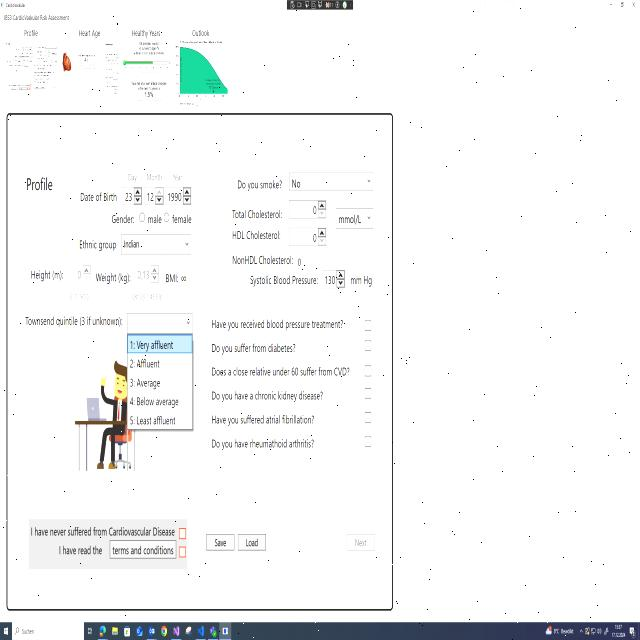button: (109, 538, 177, 560), (236, 527, 268, 556), (344, 530, 376, 554), (205, 530, 235, 554), (627, 0, 640, 15), (604, 0, 616, 15), (616, 0, 627, 14)
checkbox: (362, 408, 373, 428), (362, 317, 374, 334), (362, 383, 372, 402), (363, 336, 372, 355), (363, 432, 372, 450), (178, 544, 187, 562), (364, 364, 372, 378), (178, 526, 186, 540)
dropdownMenu: (125, 308, 194, 433), (288, 163, 374, 194), (120, 228, 192, 260), (334, 204, 376, 236), (554, 626, 584, 636)
icon: (98, 625, 107, 637), (209, 625, 217, 638), (545, 623, 553, 636), (2, 624, 10, 636), (160, 624, 167, 637), (197, 624, 204, 637), (124, 624, 130, 638), (136, 625, 143, 637), (173, 624, 180, 636), (630, 626, 636, 639), (185, 625, 192, 636), (112, 625, 118, 637), (148, 626, 155, 636), (604, 626, 609, 636), (585, 626, 590, 635), (591, 627, 596, 636), (597, 627, 602, 635)
input: (11, 623, 85, 640)
label: (210, 314, 348, 336), (28, 520, 179, 538), (208, 362, 350, 380), (208, 412, 318, 433), (210, 389, 326, 407), (22, 312, 122, 330), (207, 438, 318, 453), (209, 340, 300, 358), (248, 270, 320, 291), (230, 251, 294, 270), (234, 172, 285, 194), (230, 226, 283, 246), (54, 542, 105, 561), (1, 11, 74, 24), (22, 172, 56, 198), (231, 206, 283, 222), (76, 236, 119, 254), (78, 188, 120, 206), (95, 269, 131, 290), (30, 264, 64, 286), (130, 25, 162, 43), (77, 20, 104, 38), (164, 271, 189, 290), (108, 210, 136, 226), (130, 291, 165, 302), (348, 275, 374, 289), (144, 166, 164, 183), (190, 24, 211, 40), (173, 213, 193, 227), (68, 290, 90, 302), (22, 27, 42, 40), (147, 214, 165, 228), (170, 170, 185, 186), (125, 170, 138, 184)
menu: (0, 620, 640, 640)
menuItem: (129, 393, 182, 411), (129, 412, 179, 431), (128, 337, 178, 354), (128, 354, 164, 374), (128, 373, 164, 392)
radio: (163, 210, 170, 224), (139, 209, 145, 223)
tabControl: (219, 622, 231, 640)
upDown: (287, 197, 327, 222), (287, 224, 328, 248), (164, 182, 194, 208), (322, 265, 346, 293), (67, 261, 92, 287), (134, 262, 160, 286), (121, 184, 144, 208), (144, 185, 166, 207)
